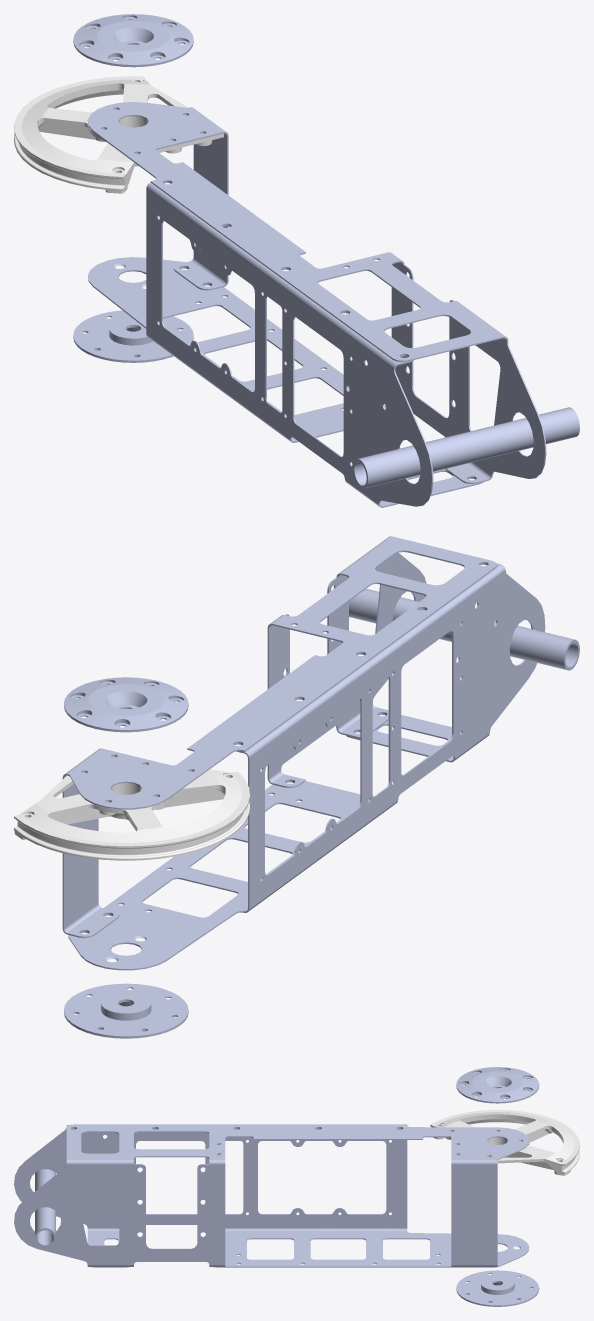
The model's file is OberarmR_A.obj.
The picture shows the model from 3 angles, top to bottom: view 1: azimuth 30°, elevation 25°; view 2: azimuth 150°, elevation 25°; view 3: azimuth 270°, elevation 25°; orthographic projection. The views are drawn at different scales.
Parts seen in each view (by area): view 1: Stamm|Minimal-OberarmR_(Standard)|Oberarm_rechts-1|Arm_Oberarm_H, Stamm|Minimal-OberarmR_(Standard)|Oberarm_rechts-1|Arm_Oberarm_S, Stamm|Minimal-OberarmR_(Standard)|Oberarm_rechts-1|Schalen_Achsa, Stamm|Minimal-OberarmR_(Standard)|Oberarm_rechts-1|Arm_Achse-1|B; view 2: Stamm|Minimal-OberarmR_(Standard)|Oberarm_rechts-1|Arm_Oberarm_H, Stamm|Minimal-OberarmR_(Standard)|Oberarm_rechts-1|Arm_Oberarm_S, Stamm|Minimal-OberarmR_(Standard)|Oberarm_rechts-1|Schalen_Achsa, Stamm|Minimal-OberarmR_(Standard)|Oberarm_rechts-1|Arm_Achse-1|B; view 3: Stamm|Minimal-OberarmR_(Standard)|Oberarm_rechts-1|Arm_Oberarm_H, Stamm|Minimal-OberarmR_(Standard)|Oberarm_rechts-1|Schalen_Achsa, Stamm|Minimal-OberarmR_(Standard)|Oberarm_rechts-1|Arm_Oberarm_S, Stamm|Minimal-OberarmR_(Standard)|Oberarm_rechts-1|Arm_Achse-1|B.
Boxes of the visible parts, x1,y1,x2,y2 form: Stamm|Minimal-OberarmR_(Standard)|Oberarm_rechts-1|Arm_Oberarm_H: (87, 102, 546, 507); Stamm|Minimal-OberarmR_(Standard)|Oberarm_rechts-1|Arm_Oberarm_S: (14, 76, 223, 193); Stamm|Minimal-OberarmR_(Standard)|Oberarm_rechts-1|Schalen_Achsa: (73, 14, 193, 362); Stamm|Minimal-OberarmR_(Standard)|Oberarm_rechts-1|Arm_Achse-1|B: (353, 407, 579, 488); Stamm|Minimal-OberarmR_(Standard)|Oberarm_rechts-1|Arm_Oberarm_H: (62, 536, 545, 970); Stamm|Minimal-OberarmR_(Standard)|Oberarm_rechts-1|Arm_Oberarm_S: (14, 756, 249, 860); Stamm|Minimal-OberarmR_(Standard)|Oberarm_rechts-1|Schalen_Achsa: (64, 677, 188, 1038); Stamm|Minimal-OberarmR_(Standard)|Oberarm_rechts-1|Arm_Achse-1|B: (349, 588, 579, 670); Stamm|Minimal-OberarmR_(Standard)|Oberarm_rechts-1|Arm_Oberarm_H: (14, 1124, 529, 1267); Stamm|Minimal-OberarmR_(Standard)|Oberarm_rechts-1|Schalen_Achsa: (456, 1067, 539, 1306); Stamm|Minimal-OberarmR_(Standard)|Oberarm_rechts-1|Arm_Oberarm_S: (430, 1109, 579, 1175); Stamm|Minimal-OberarmR_(Standard)|Oberarm_rechts-1|Arm_Achse-1|B: (35, 1169, 55, 1247).
Bounding box in the file's own units: 0.0807 × 0.1099 × 0.2691.
